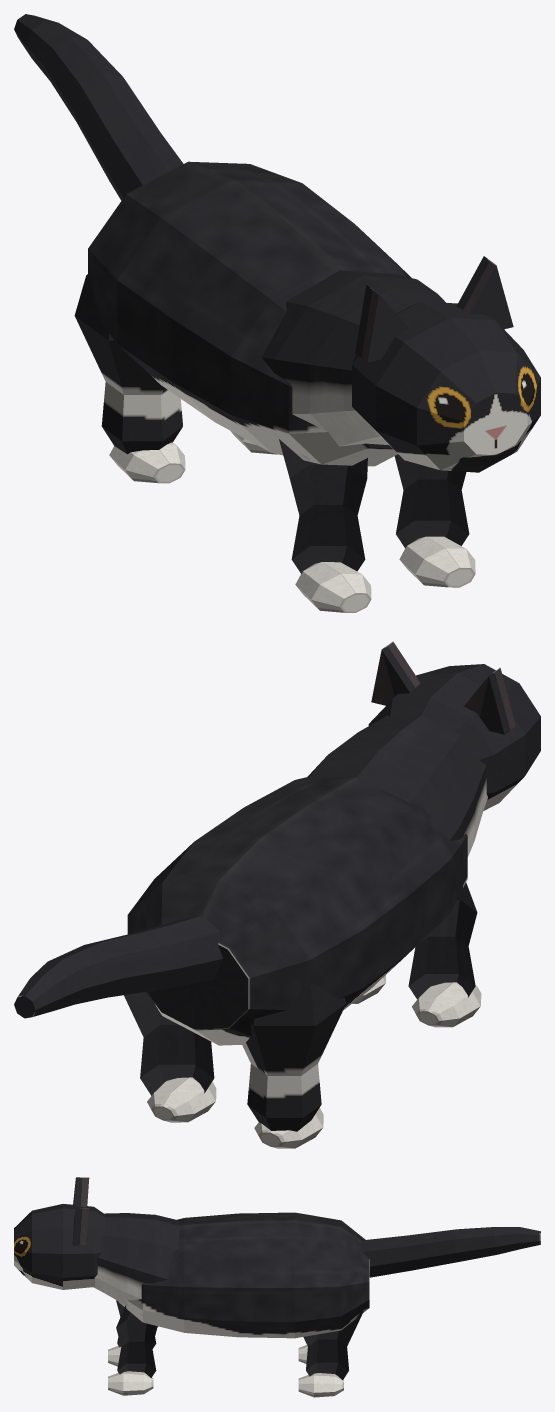
The model's file is spooner-man.glb.
3 views of the same model, one above another, from view 1: azimuth 30°, elevation 25°; view 2: azimuth 150°, elevation 25°; view 3: azimuth 270°, elevation 25° (orthographic). The views are drawn at different scales.
Visible parts, largest first — view 1: spooner-man; view 2: spooner-man; view 3: spooner-man.
Part boxes in pixels (x1,y1,x2,y2): spooner-man: [14, 14, 540, 612]; spooner-man: [14, 641, 540, 1148]; spooner-man: [14, 1177, 540, 1397].
Size of the model in its own units: 0.2727 by 0.4001 by 1.02.
1 material, 1 textured.
